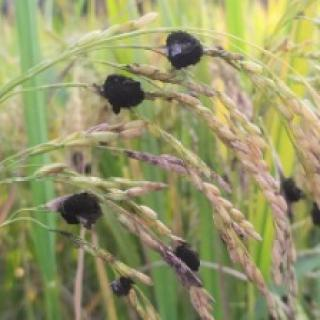Gosong-Palsu: (100, 70, 151, 116), (59, 184, 103, 236), (162, 23, 203, 74), (174, 234, 206, 276), (277, 174, 308, 210), (106, 267, 139, 300)
